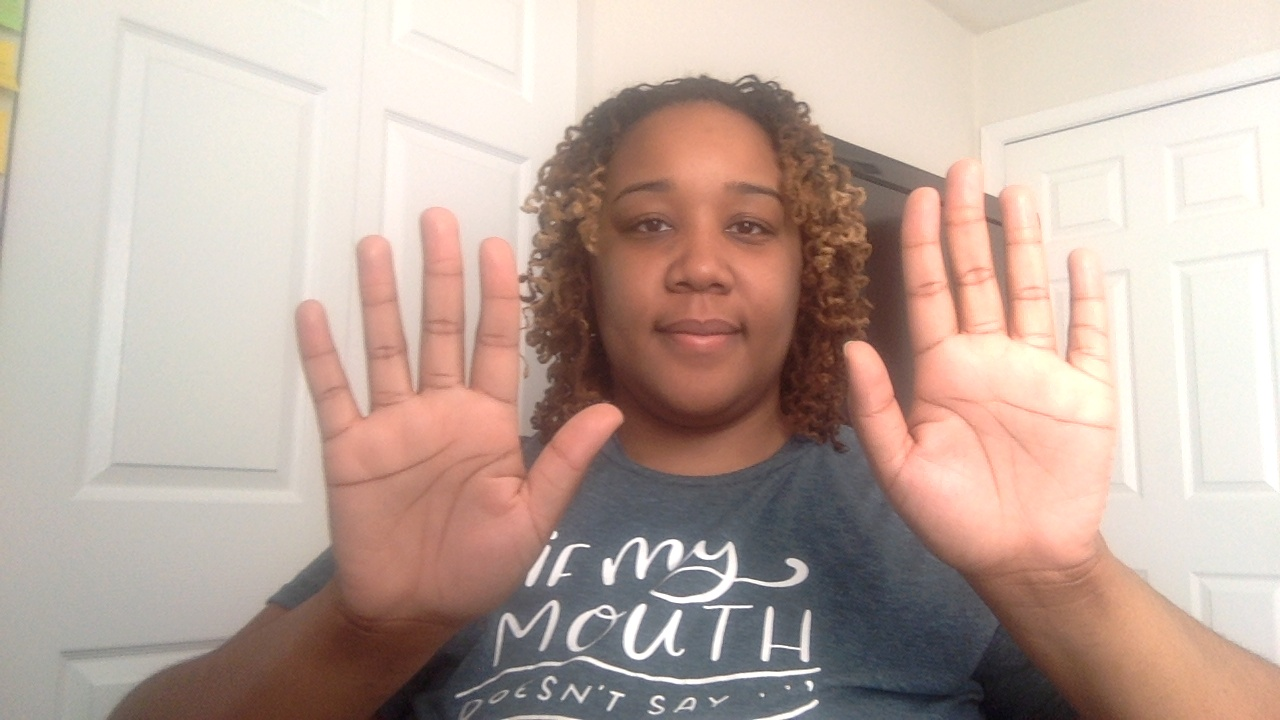great: (290, 71, 1142, 637)
